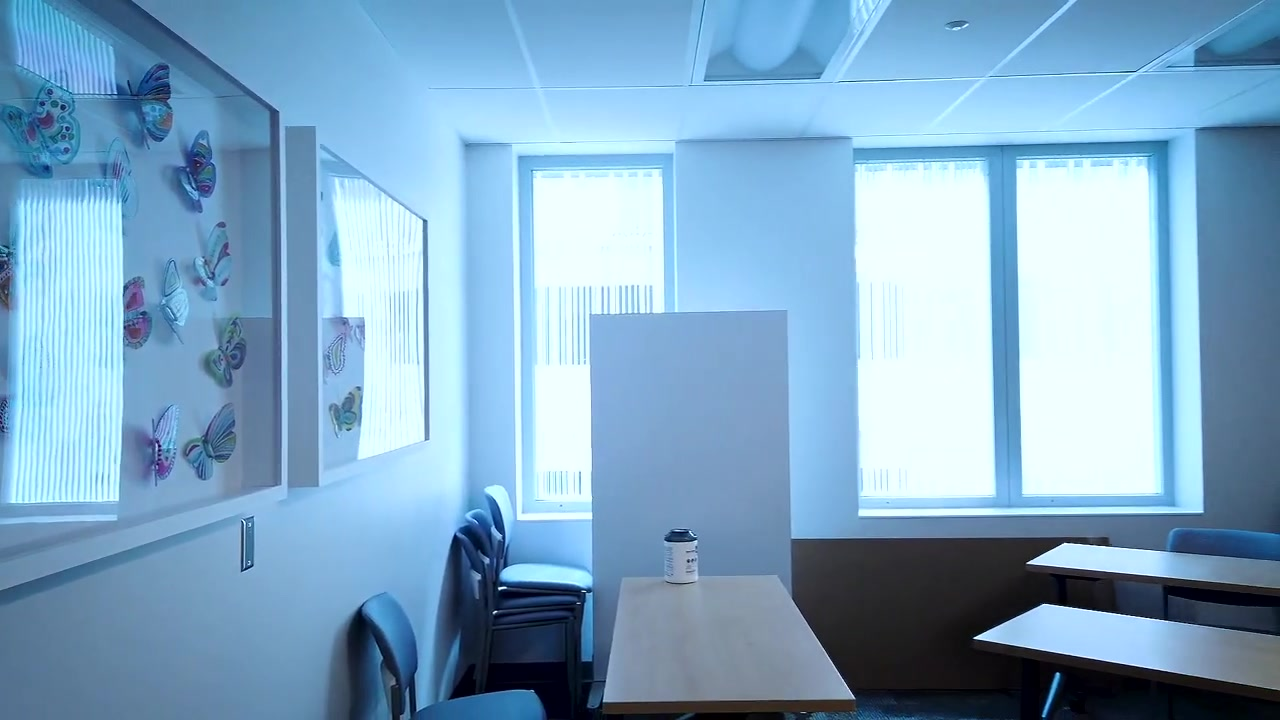chair: (451, 485, 595, 720), (360, 590, 548, 720), (449, 527, 576, 711), (461, 504, 587, 688), (1160, 527, 1280, 720)
table: (971, 600, 1280, 720), (600, 577, 857, 720), (1024, 543, 1280, 606)
